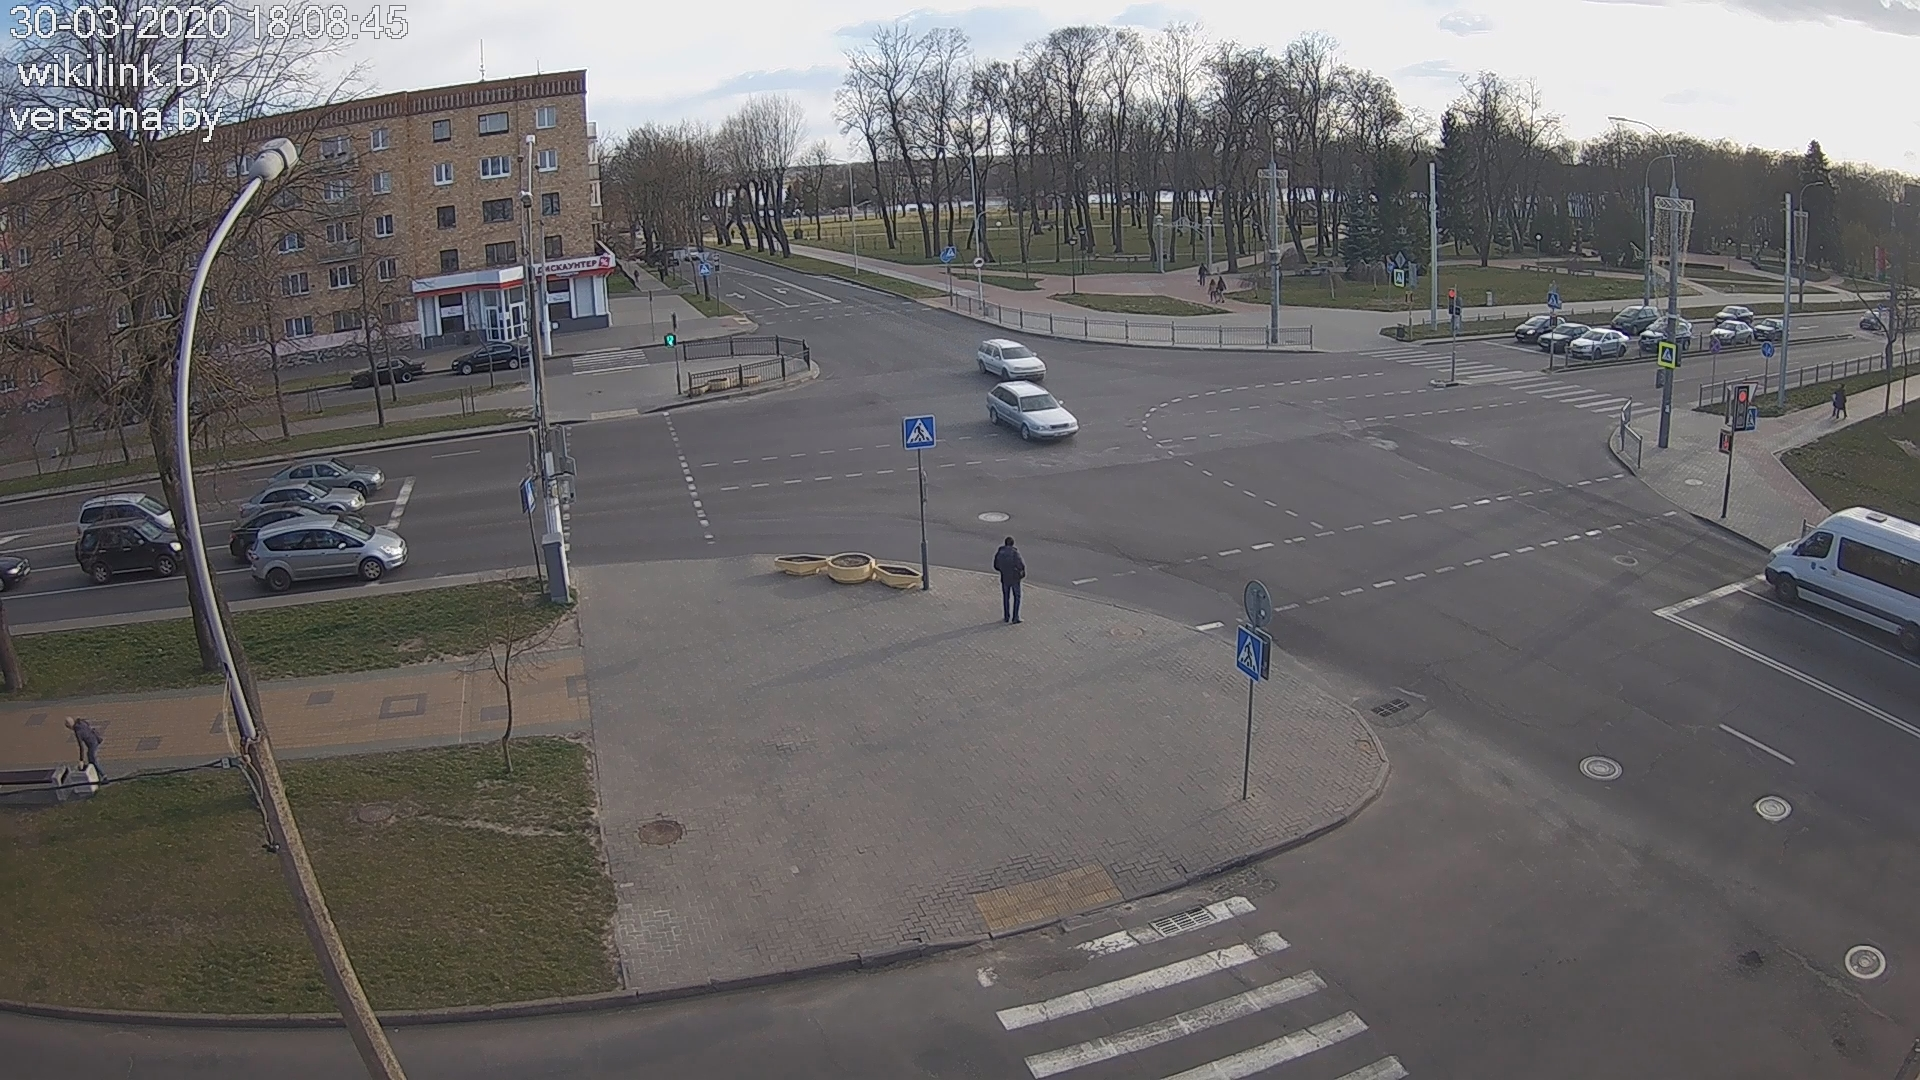car: (1766, 506, 1920, 647), (249, 514, 407, 591), (229, 500, 373, 558), (75, 517, 191, 583), (986, 378, 1080, 442), (237, 477, 368, 518), (75, 492, 179, 541), (268, 456, 385, 498), (977, 338, 1046, 384), (451, 342, 531, 375), (351, 355, 427, 389), (1571, 328, 1630, 360), (1538, 320, 1589, 353), (1638, 320, 1691, 352), (1611, 306, 1660, 335), (1515, 315, 1565, 342), (1712, 320, 1753, 345)
